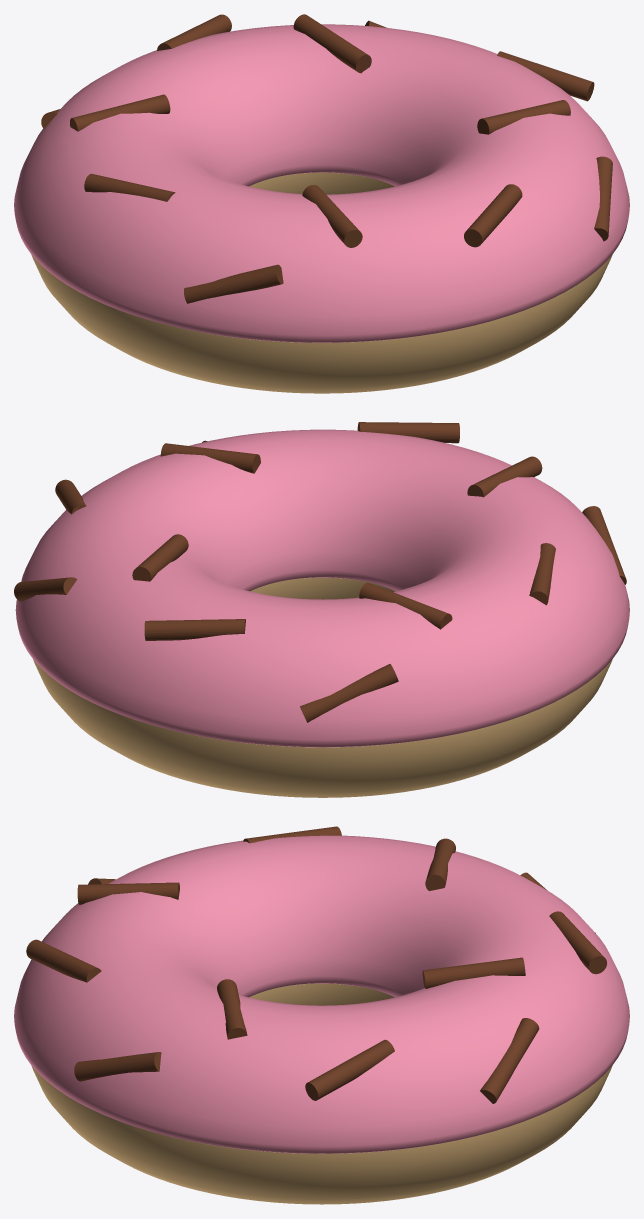
Rendered from Donut.fbx.
The picture shows the model from 3 angles, top to bottom: view 1: azimuth 30°, elevation 25°; view 2: azimuth 150°, elevation 25°; view 3: azimuth 270°, elevation 25°; orthographic projection.
Visible parts, largest first — view 1: Torus.001, Torus, Cylinder.004, Cylinder.009, Cylinder.006, Cylinder.003, Cylinder.011, Cylinder.002, Cylinder.008, Cylinder.005, Cylinder.007, Cylinder; view 2: Torus.001, Torus, Cylinder, Cylinder.001, Cylinder.006, Cylinder.002, Cylinder.008, Cylinder.009, Cylinder.003, Cylinder.005, Cylinder.010, Cylinder.004 (+1 smaller); view 3: Torus.001, Torus, Cylinder.011, Cylinder.009, Cylinder.010, Cylinder.007, Cylinder.006, Cylinder.003, Cylinder, Cylinder.008, Cylinder.002, Cylinder.005.
Part boxes in pixels (x1=…): Torus.001: x1=14, y1=24, x2=629, y2=342; Torus: x1=31, y1=172, x2=612, y2=393; Cylinder.004: x1=184, y1=264, x2=283, y2=303; Cylinder.009: x1=293, y1=14, x2=371, y2=73; Cylinder.006: x1=464, y1=184, x2=522, y2=247; Cylinder.003: x1=302, y1=185, x2=362, y2=247; Cylinder.011: x1=497, y1=51, x2=594, y2=101; Cylinder.002: x1=70, y1=94, x2=170, y2=131; Cylinder.008: x1=477, y1=100, x2=570, y2=134; Cylinder.005: x1=84, y1=173, x2=175, y2=201; Cylinder.007: x1=594, y1=156, x2=612, y2=241; Cylinder: x1=157, y1=14, x2=231, y2=50; Torus.001: x1=15, y1=429, x2=629, y2=747; Torus: x1=33, y1=577, x2=612, y2=797; Cylinder: x1=144, y1=619, x2=245, y2=640; Cylinder.001: x1=300, y1=664, x2=398, y2=722; Cylinder.006: x1=357, y1=422, x2=459, y2=443; Cylinder.002: x1=359, y1=582, x2=452, y2=629; Cylinder.008: x1=160, y1=443, x2=260, y2=473; Cylinder.009: x1=132, y1=534, x2=188, y2=581; Cylinder.003: x1=467, y1=456, x2=542, y2=497; Cylinder.005: x1=529, y1=543, x2=555, y2=605; Cylinder.010: x1=14, y1=577, x2=76, y2=601; Cylinder.004: x1=582, y1=506, x2=626, y2=584; Torus.001: x1=14, y1=835, x2=629, y2=1153; Torus: x1=31, y1=983, x2=612, y2=1204; Cylinder.011: x1=305, y1=1039, x2=394, y2=1100; Cylinder.009: x1=422, y1=957, x2=525, y2=988; Cylinder.010: x1=480, y1=1018, x2=539, y2=1103; Cylinder.007: x1=74, y1=1052, x2=161, y2=1081; Cylinder.006: x1=26, y1=939, x2=101, y2=982; Cylinder.003: x1=77, y1=882, x2=179, y2=904; Cylinder: x1=549, y1=911, x2=607, y2=974; Cylinder.008: x1=217, y1=979, x2=247, y2=1039; Cylinder.002: x1=425, y1=838, x2=455, y2=890; Cylinder.005: x1=243, y1=826, x2=341, y2=843.
Size of the model in its own units: 307 by 105 by 305.
